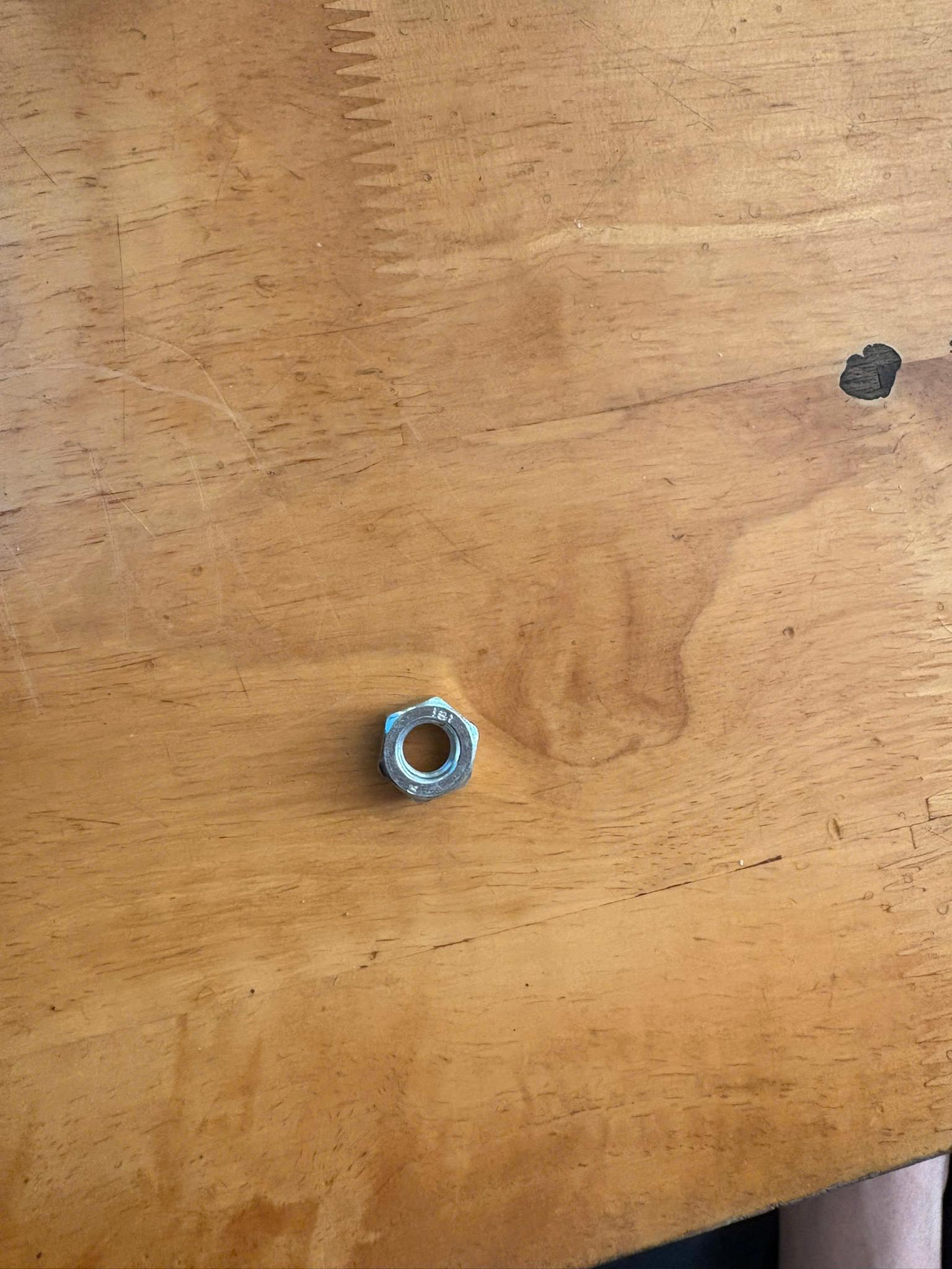nut: (377, 675, 490, 841)
